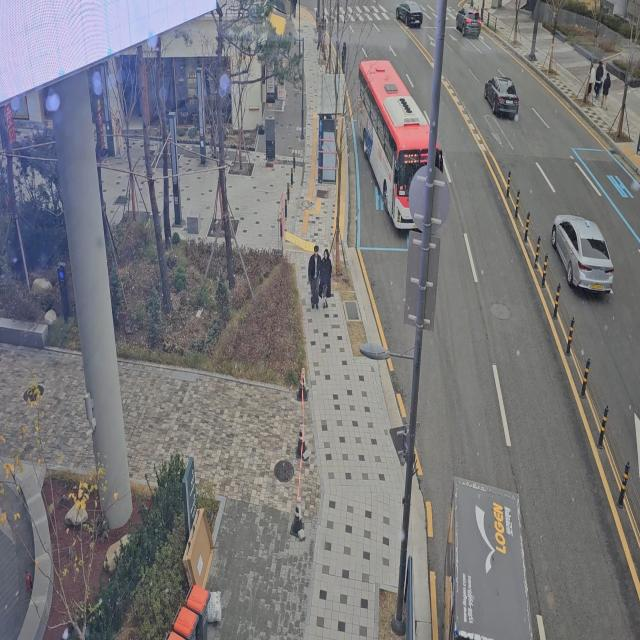Bus: (349, 52, 452, 248)
Car: (533, 207, 622, 315), (478, 65, 526, 129), (451, 0, 488, 45), (389, 0, 430, 40)
Truck: (434, 459, 540, 640)
